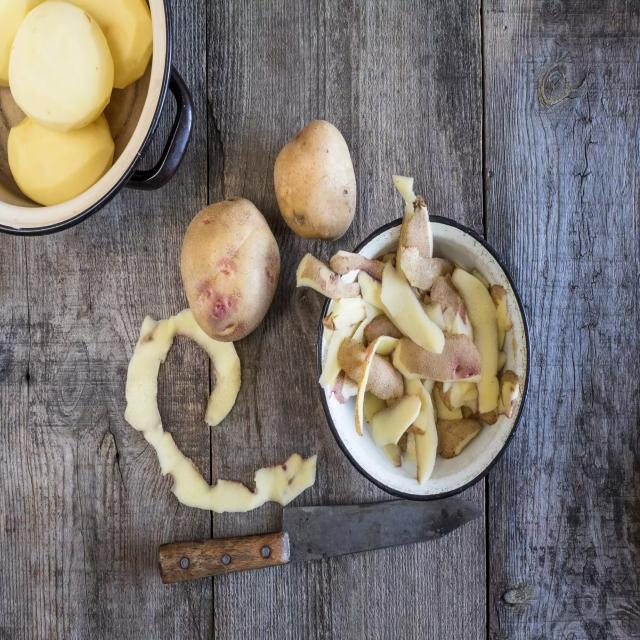Wet: (125, 308, 316, 514), (452, 267, 499, 413), (381, 260, 446, 352), (394, 332, 482, 383), (337, 337, 405, 398), (296, 253, 361, 302), (369, 396, 423, 448), (434, 419, 482, 459)
